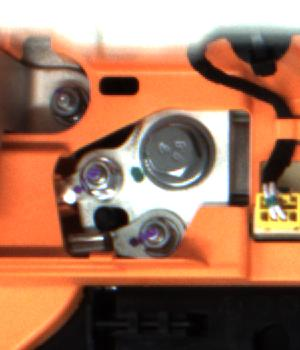nut_b: (133, 110, 228, 202)
